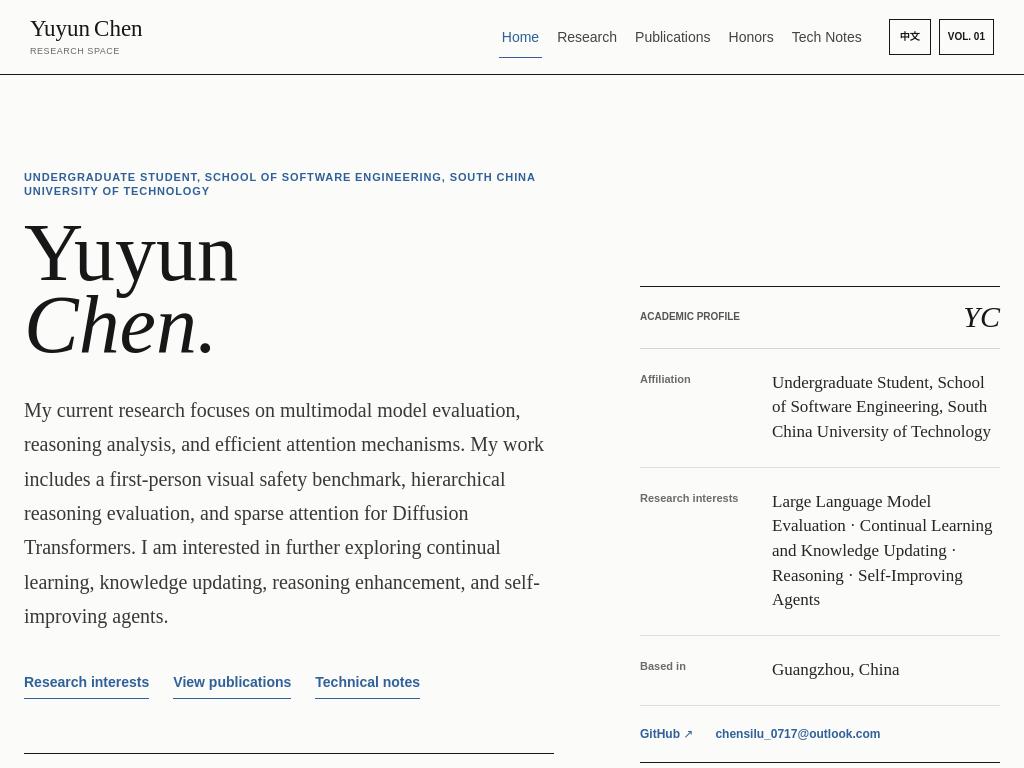
owner session restoration › uses compact Chinese labels in the top navigation
This screenshot has width=1024, height=768.
Click the button with aria-label "Switch to Chinese".
click(910, 37)  # box 889,19 -> 931,55
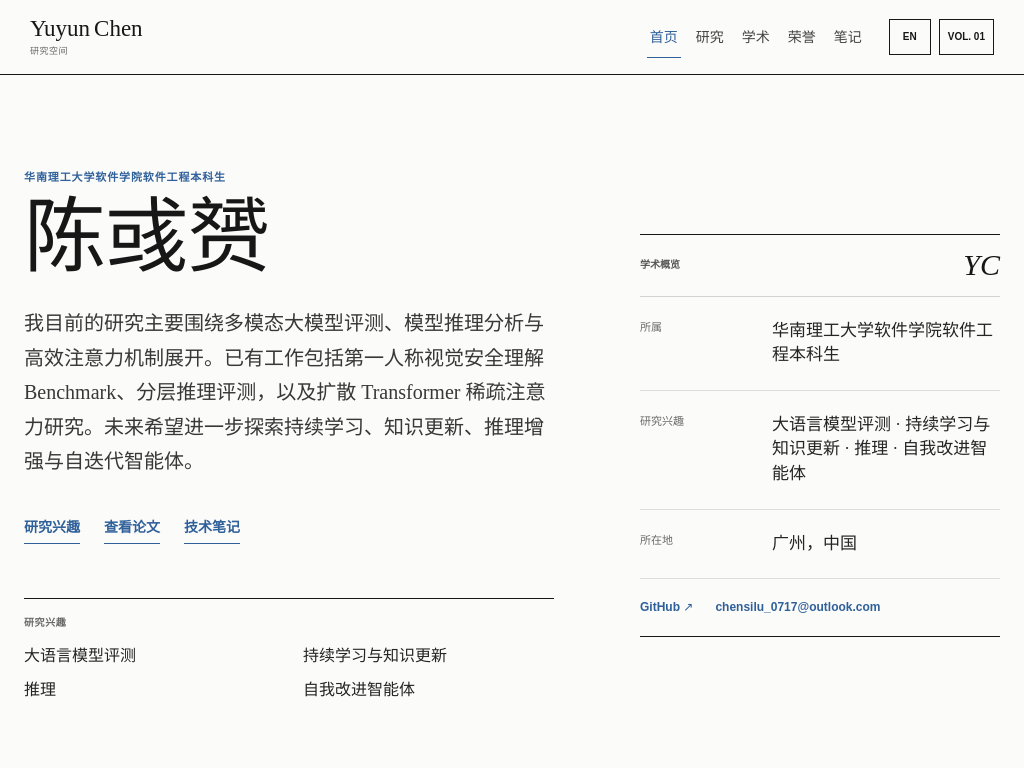
Check: the heading "陈彧赟" is shown, box 24,192 -> 270,283
